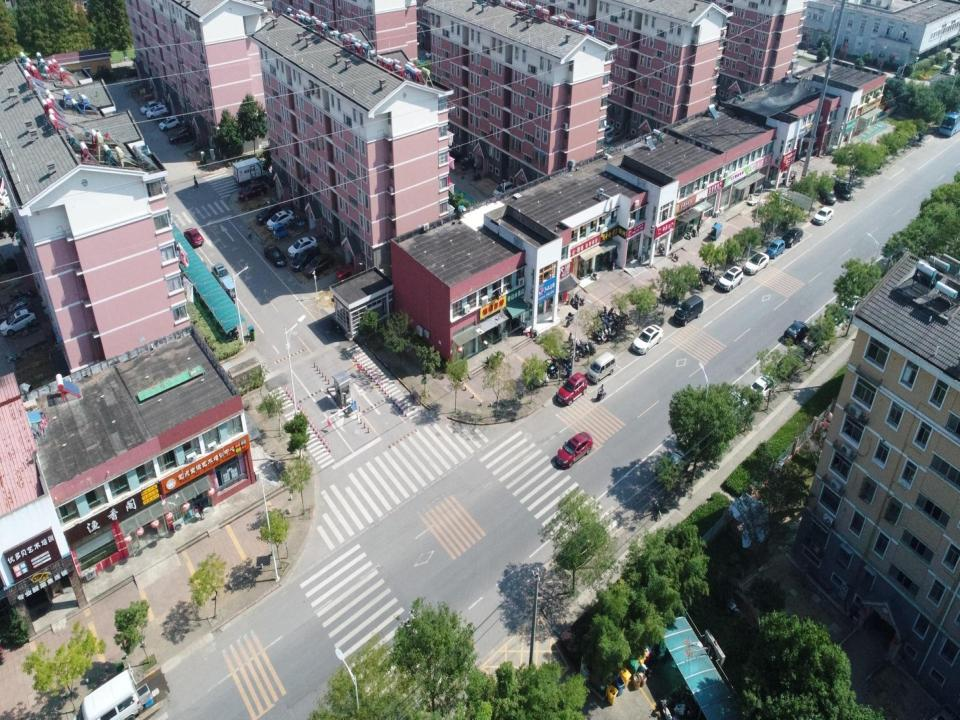bus: (938, 103, 960, 137)
car: (562, 522, 607, 566), (555, 431, 594, 469), (656, 448, 690, 484), (0, 305, 38, 337), (712, 391, 750, 421), (557, 371, 588, 406), (632, 324, 664, 355), (0, 295, 31, 325), (776, 349, 806, 379), (304, 252, 335, 280), (748, 373, 777, 402), (290, 246, 321, 273), (286, 234, 318, 260), (717, 265, 744, 292), (783, 320, 811, 345), (265, 209, 295, 232), (801, 324, 824, 354), (237, 180, 268, 202), (263, 243, 288, 269), (255, 201, 282, 225), (840, 293, 864, 318), (744, 252, 770, 275), (865, 258, 892, 280), (823, 312, 847, 335), (211, 261, 233, 286), (781, 226, 804, 248), (817, 179, 837, 204), (765, 237, 786, 259), (168, 126, 192, 145), (183, 227, 204, 248), (492, 180, 514, 200), (139, 97, 162, 115), (813, 206, 834, 225), (0, 188, 23, 205), (159, 115, 180, 133), (146, 103, 169, 119), (835, 180, 851, 200), (603, 128, 623, 144), (424, 46, 438, 60), (807, 46, 825, 56), (601, 124, 614, 137)
truck: (230, 156, 270, 188)
van: (64, 664, 153, 719), (586, 350, 616, 384), (673, 294, 703, 326)
